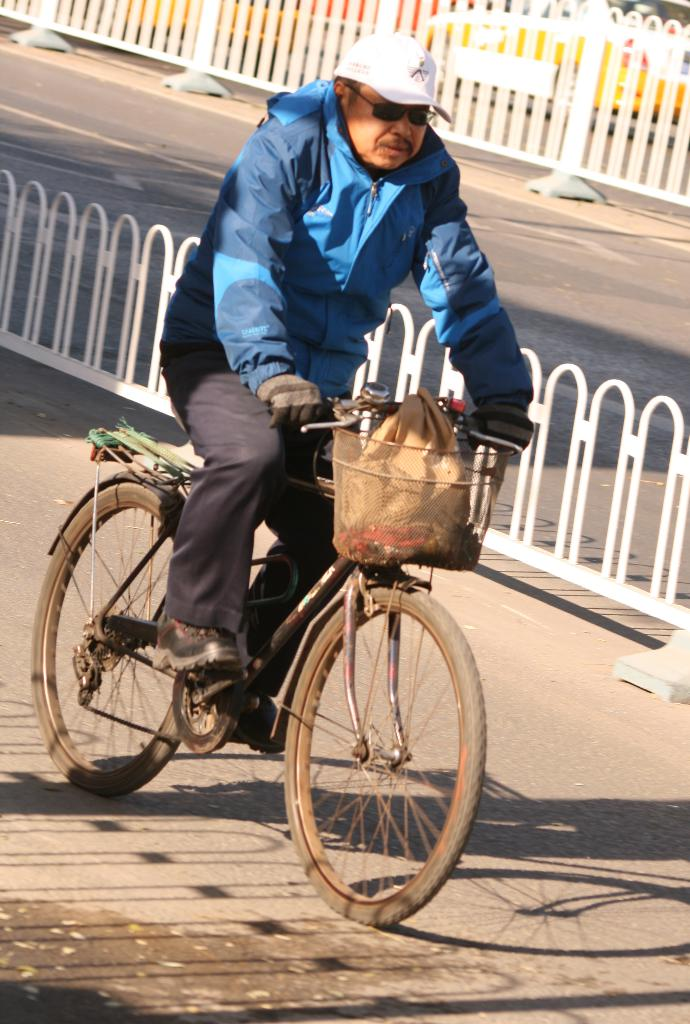Bike: (17, 350, 595, 971)
